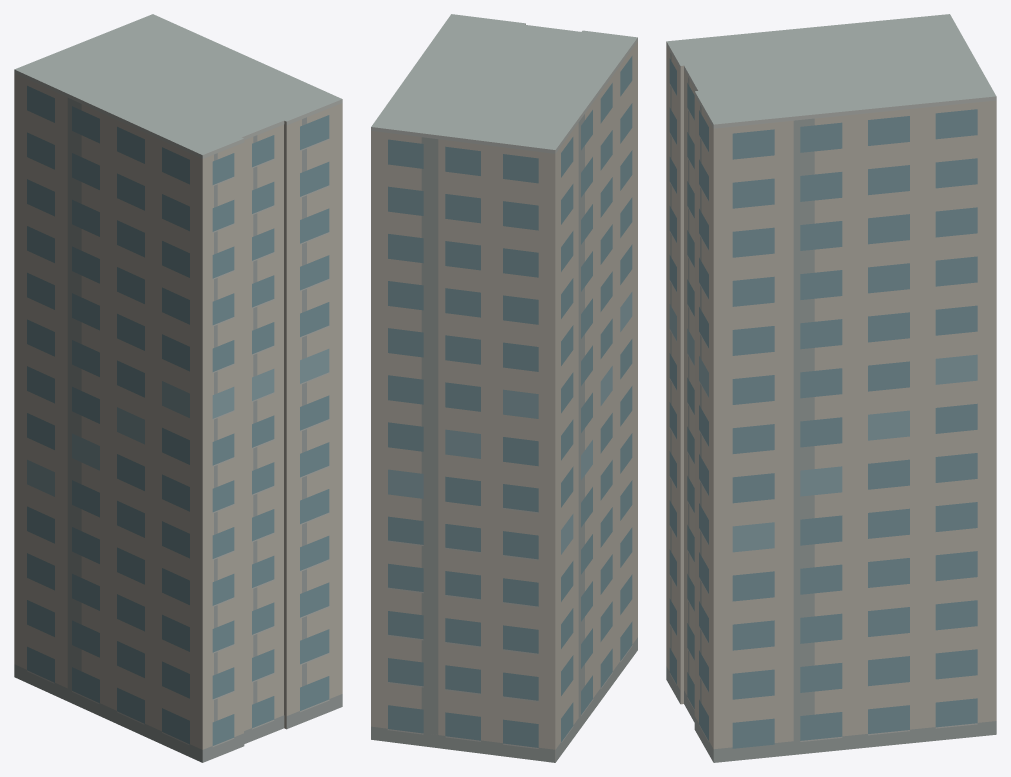
Rendered from survey-upis-32940071.glb.
3 renders of one model, left to right at view 1: azimuth 30°, elevation 25°; view 2: azimuth 150°, elevation 25°; view 3: azimuth 270°, elevation 25°, orthographic. The views are drawn at different scales.
Parts seen in each view (by area): view 1: survey-upis-32940071.tmp; view 2: survey-upis-32940071.tmp; view 3: survey-upis-32940071.tmp.
Part boxes in pixels (left/top/right/bottom): survey-upis-32940071.tmp: left=14, top=14, right=342, bottom=762; survey-upis-32940071.tmp: left=371, top=14, right=637, bottom=762; survey-upis-32940071.tmp: left=666, top=14, right=996, bottom=762.
Bounding box in the file's own units: 14.45 × 38.85 × 18.22.
